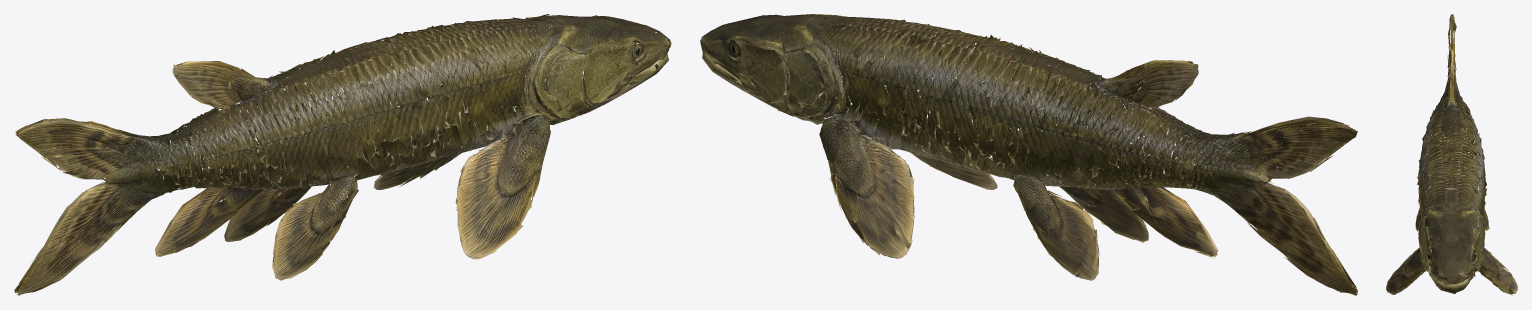
Rendered from eusthenopteron.glb.
The picture shows the model from 3 angles, left to right: view 1: azimuth 30°, elevation 25°; view 2: azimuth 150°, elevation 25°; view 3: azimuth 270°, elevation 25°; orthographic projection. The views are drawn at different scales.
Visible parts, largest first — view 1: Mesh_0; view 2: Mesh_0; view 3: Mesh_0.
Boxes of the visible parts, x1=… form: Mesh_0: x1=14, y1=14, x2=671, y2=295; Mesh_0: x1=700, y1=14, x2=1357, y2=295; Mesh_0: x1=1386, y1=14, x2=1517, y2=295.
Size of the model in its own units: 1 by 0.3278 by 0.253.
Materials: 1 (1 with a texture image).
